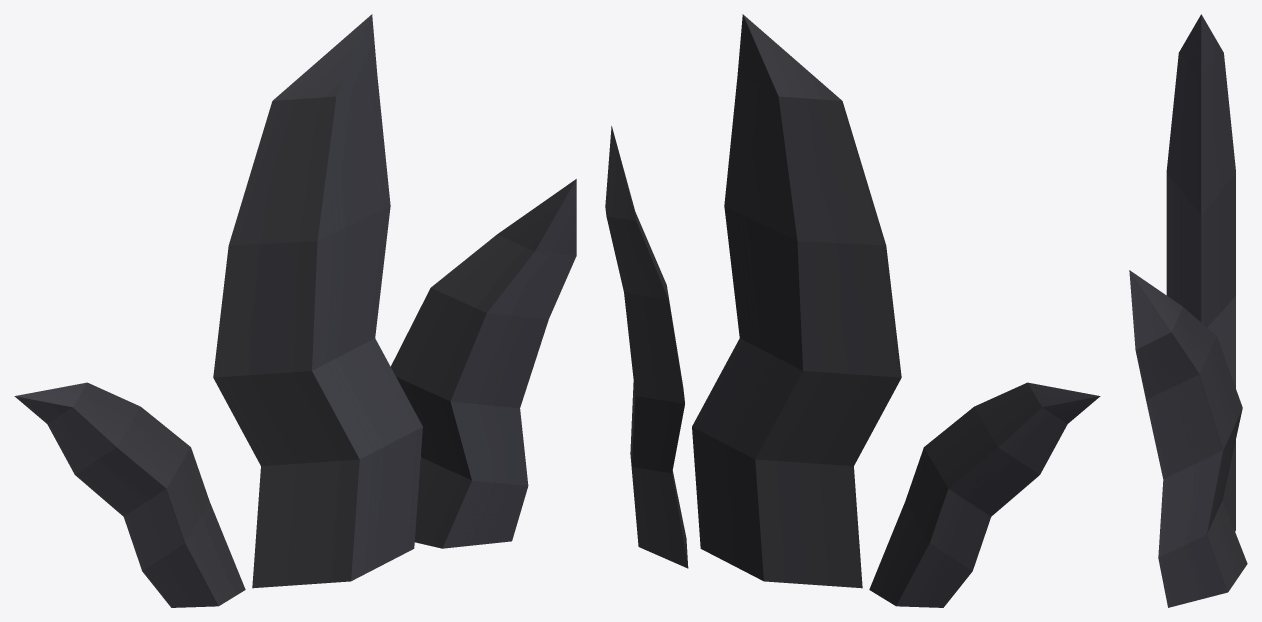
File: Fire-Grass.fbx
The picture shows the model from 3 angles, left to right: view 1: azimuth 30°, elevation 25°; view 2: azimuth 150°, elevation 25°; view 3: azimuth 270°, elevation 25°; orthographic projection.
Visible parts, largest first — view 1: Burnt Grass; view 2: Burnt Grass; view 3: Burnt Grass.
Boxes of the visible parts, box(x1,y1,x2,y2) form: Burnt Grass: box(14, 14, 576, 607); Burnt Grass: box(605, 14, 1100, 607); Burnt Grass: box(1129, 14, 1247, 607).
Size of the model in its own units: 0.4453 by 0.4385 by 0.0879.
